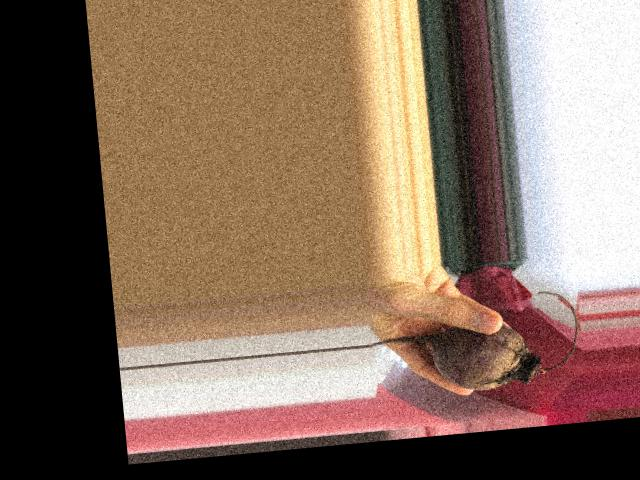beet: (367, 288, 583, 399)
